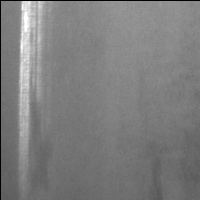inclusion: (147, 157, 165, 200)
scratches: (19, 2, 44, 157)
